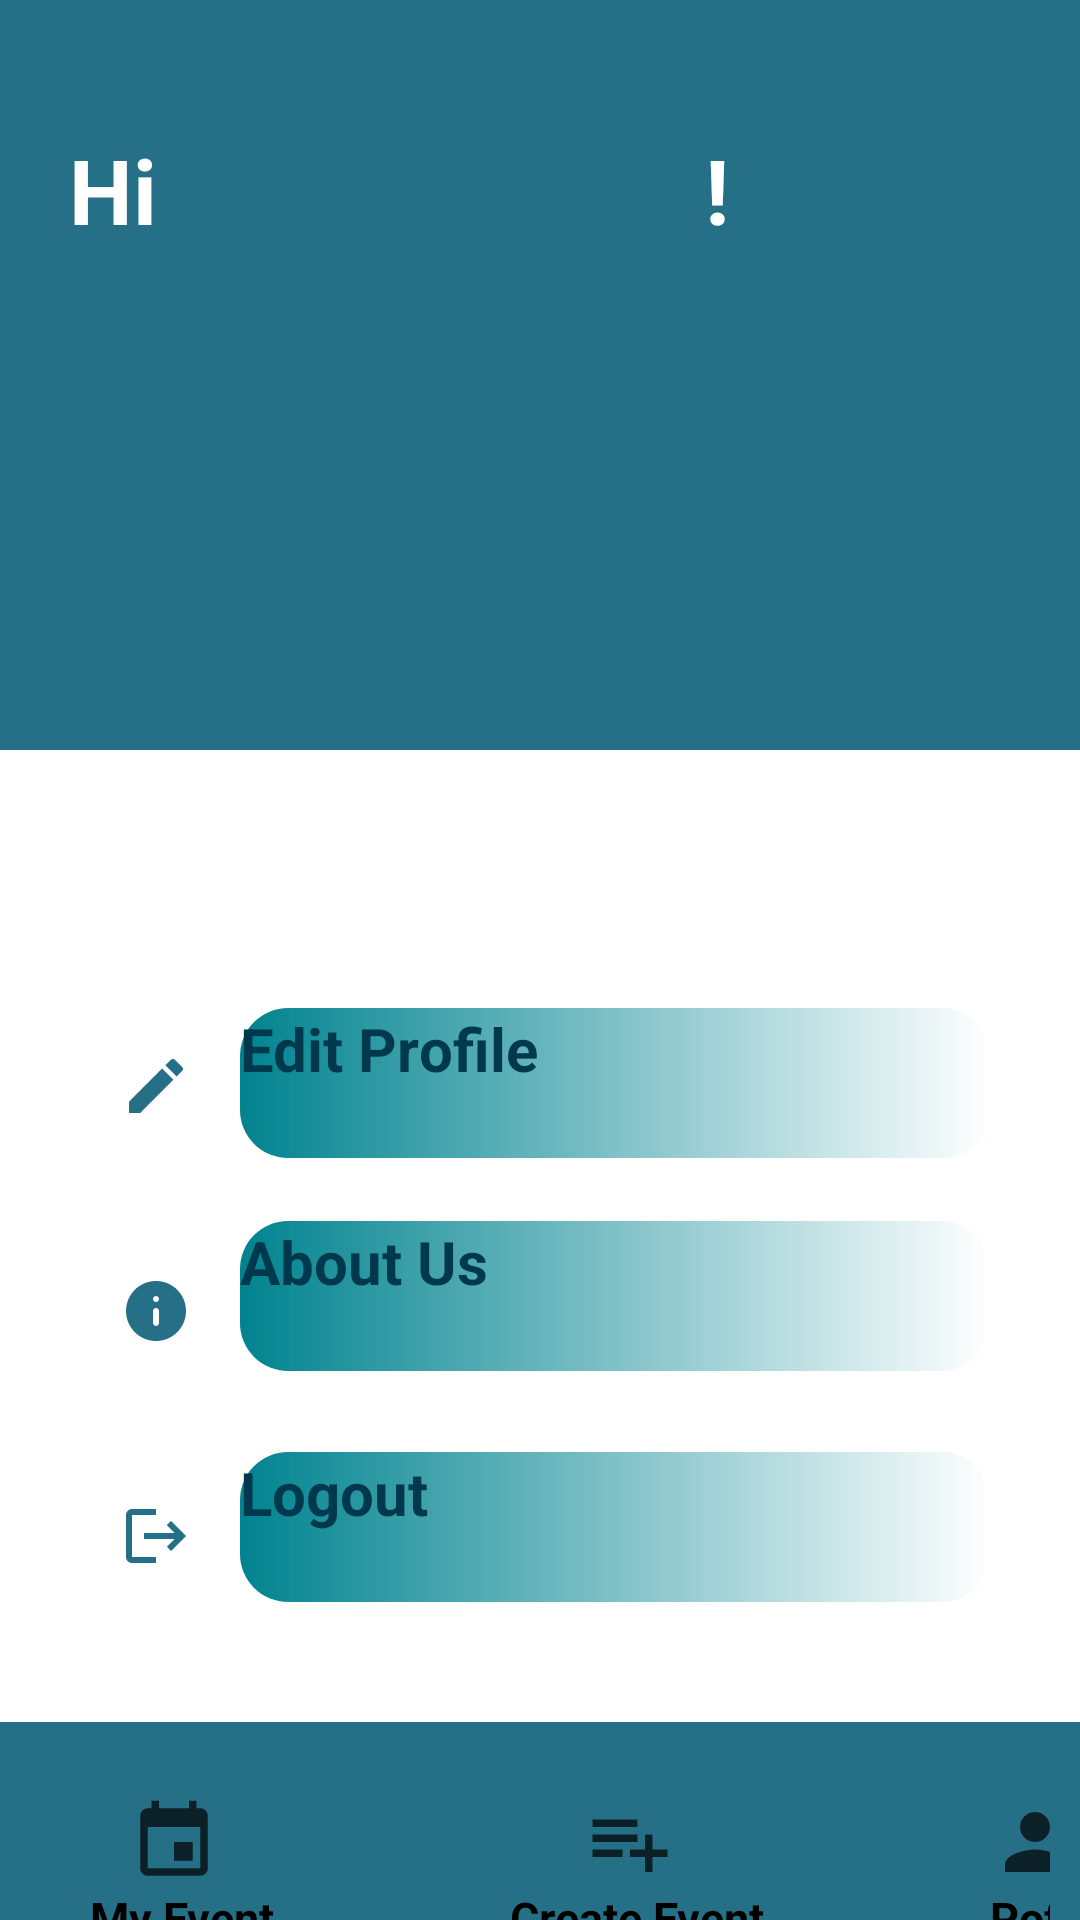

Where to tap for icons on this 1080*1920 app screen, as (x=x, y=y):
edit account: (x=156, y=1086)
